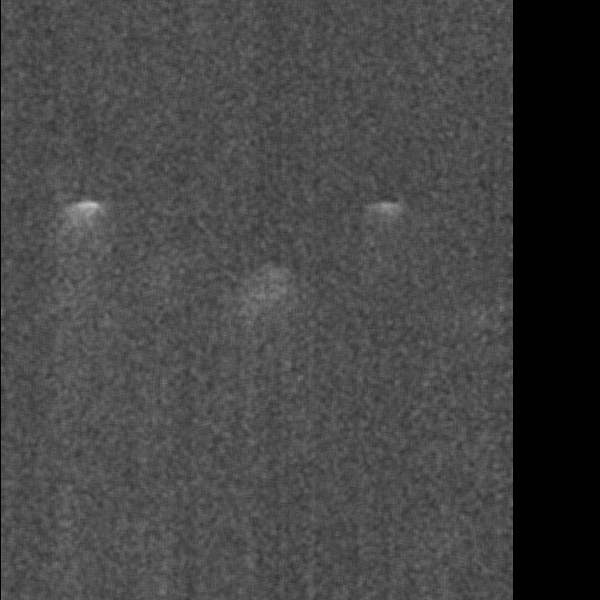spark: (413, 287, 466, 414), (390, 106, 448, 176), (402, 312, 449, 361), (12, 456, 46, 515), (38, 156, 70, 212), (480, 555, 501, 599), (433, 578, 474, 600), (87, 26, 113, 48)
